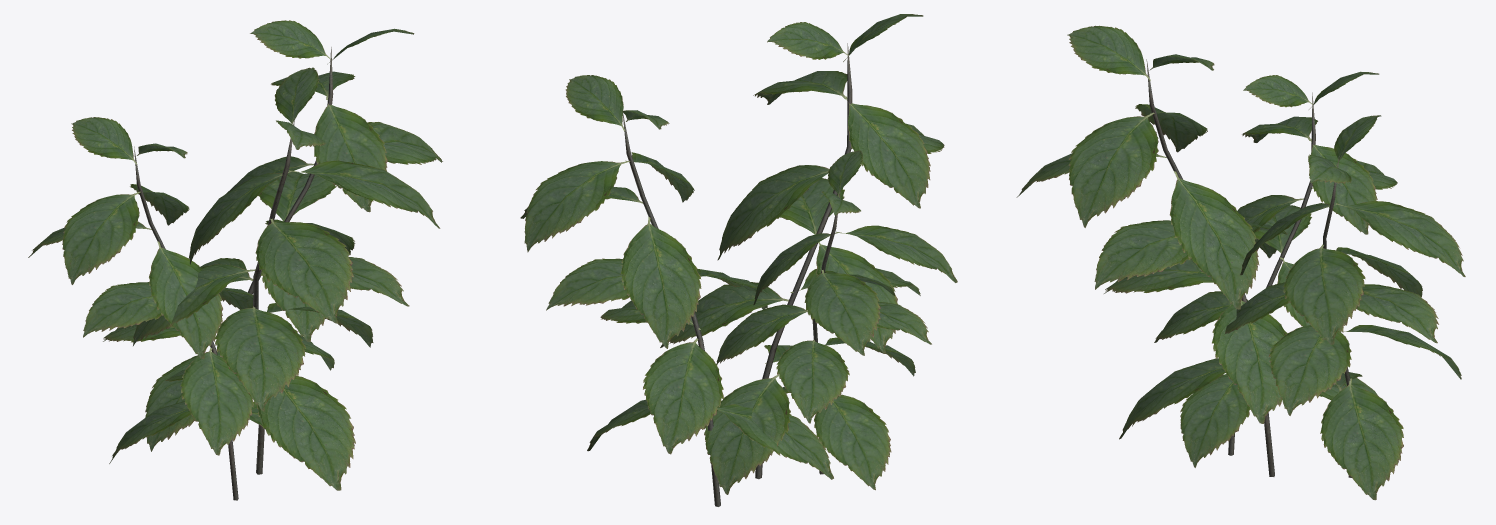
The model's file is SM_KYT_Plant01.fbx.
3 views of the same model, side by side, from view 1: azimuth 30°, elevation 25°; view 2: azimuth 150°, elevation 25°; view 3: azimuth 270°, elevation 25° (orthographic). The views are drawn at different scales.
Parts seen in each view (by area): view 1: SM_KYT_Plant01_LOD0; view 2: SM_KYT_Plant01_LOD0; view 3: SM_KYT_Plant01_LOD0.
Boxes of the visible parts, x1=… form: SM_KYT_Plant01_LOD0: x1=28, y1=20, x2=442, y2=500; SM_KYT_Plant01_LOD0: x1=520, y1=14, x2=957, y2=506; SM_KYT_Plant01_LOD0: x1=1016, y1=25, x2=1465, y2=500.
Bounding box in the file's own units: 93.76 × 91.17 × 89.78.
Materials: 2 (2 with a texture image).
